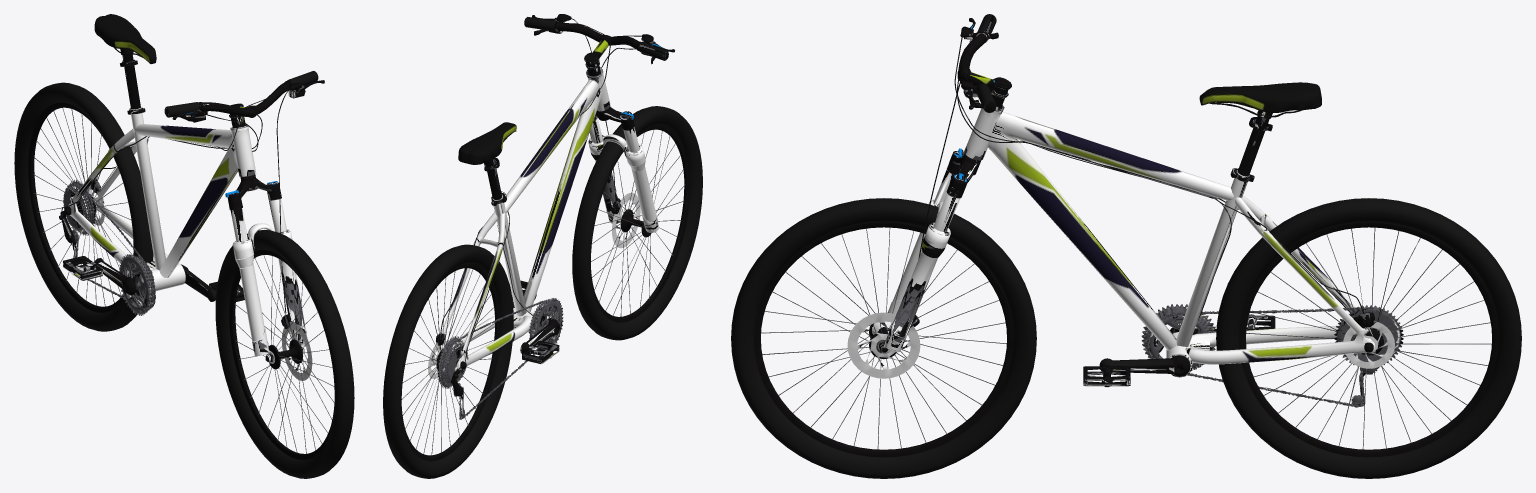
File: tyax.glb
3 views of the same model, side by side, from view 1: azimuth 30°, elevation 25°; view 2: azimuth 150°, elevation 25°; view 3: azimuth 270°, elevation 25° (orthographic). The views are drawn at different scales.
Parts seen in each view (by area): view 1: Body, Wheel_F, Wheel_R, Crank; view 2: Body, Wheel_R, Wheel_F, Crank; view 3: Body, Wheel_R, Wheel_F, Crank.
Part boxes in pixels (x1=…): Body: x1=61, y1=14, x2=324, y2=363; Wheel_F: x1=215, y1=230, x2=354, y2=478; Wheel_R: x1=14, y1=82, x2=153, y2=331; Crank: x1=63, y1=244, x2=244, y2=315; Body: x1=432, y1=14, x2=674, y2=381; Wheel_R: x1=383, y1=244, x2=525, y2=478; Wheel_F: x1=572, y1=106, x2=702, y2=340; Crank: x1=509, y1=280, x2=563, y2=363; Body: x1=876, y1=14, x2=1375, y2=364; Wheel_R: x1=1214, y1=198, x2=1521, y2=478; Wheel_F: x1=731, y1=198, x2=1036, y2=478; Crank: x1=1083, y1=304, x2=1275, y2=387.
Bounding box in the file's own units: 61.63 × 136 × 230.
1 material, 1 textured.
